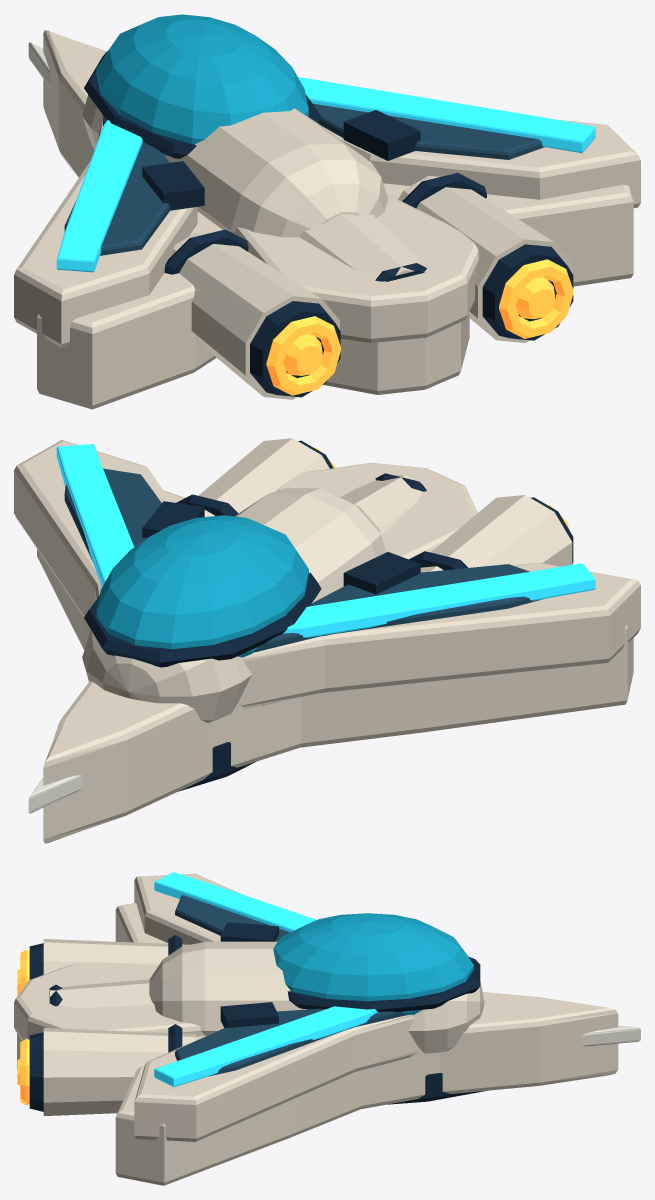
File: vector-low.glb
The picture shows the model from 3 angles, top to bottom: view 1: azimuth 30°, elevation 25°; view 2: azimuth 150°, elevation 25°; view 3: azimuth 270°, elevation 25°; orthographic projection. The views are drawn at different scales.
Visible parts, largest first — view 1: hull_static, glass_static, dark_static, trim_static, engine_static, accent_static; view 2: hull_static, glass_static, trim_static, dark_static, accent_static, porcelain_static; view 3: hull_static, glass_static, trim_static, dark_static, accent_static, engine_static, porcelain_static.
Part boxes in pixels (x1,y1,x2,y2): hull_static: (14, 30, 640, 409); glass_static: (96, 14, 308, 156); dark_static: (84, 51, 573, 397); trim_static: (56, 77, 595, 272); engine_static: (266, 259, 573, 395); accent_static: (64, 103, 544, 255); hull_static: (14, 438, 640, 843); glass_static: (96, 515, 308, 657); trim_static: (56, 444, 595, 637); dark_static: (84, 440, 573, 791); accent_static: (64, 468, 543, 652); porcelain_static: (28, 775, 82, 813); hull_static: (14, 873, 618, 1185); glass_static: (273, 913, 473, 1015); trim_static: (154, 872, 377, 1087); dark_static: (29, 922, 486, 1111); accent_static: (175, 895, 406, 1076); engine_static: (17, 949, 29, 1105); porcelain_static: (581, 1025, 640, 1046).
Bounding box in the file's own units: 348 × 112 × 405.
